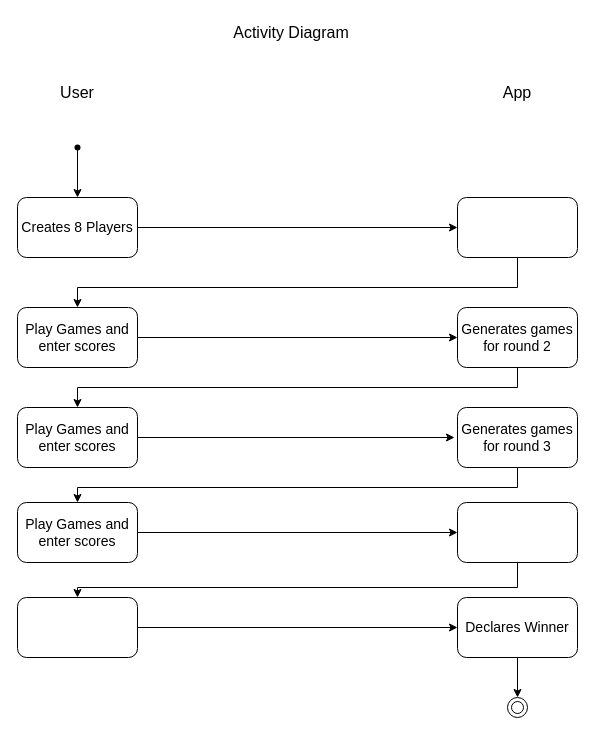
Some shapes in this 595 by 735 pixel diagram are drawn without their labels. Each missing label, with the centre of its shape:
"Generates Games for Round 1" belongs at pixel 517 227.
"Generates games for round 4" belongs at pixel 517 532.
"Play Final Round and input scores" belongs at pixel 77 627.
